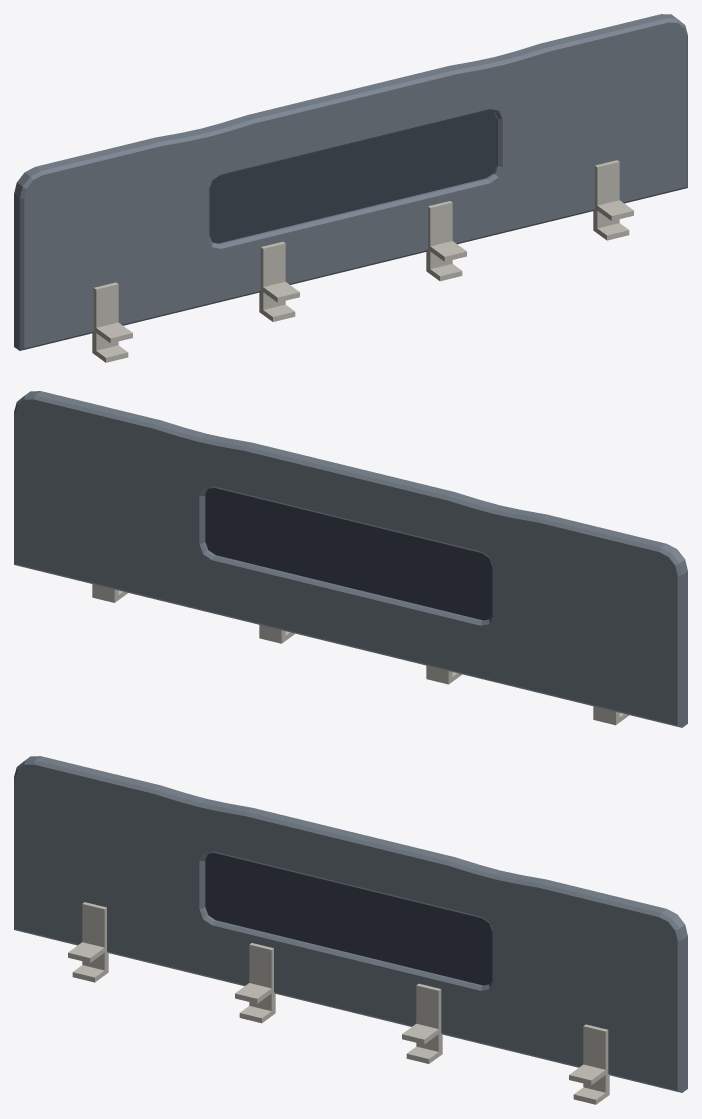
Rendered from fabric-desk-screen-36a274.glb.
3 views of the same model, one above another, from view 1: azimuth 30°, elevation 25°; view 2: azimuth 150°, elevation 25°; view 3: azimuth 330°, elevation 25° (orthographic).
Parts seen in each view (by area): view 1: fabric-desk-screen; view 2: fabric-desk-screen; view 3: fabric-desk-screen.
Part boxes in pixels (bbox=[...]): fabric-desk-screen: bbox=[14, 14, 687, 362]; fabric-desk-screen: bbox=[14, 391, 687, 727]; fabric-desk-screen: bbox=[14, 756, 687, 1104].
Bounding box in the file's own units: 1.6 × 0.4444 × 0.1073.
